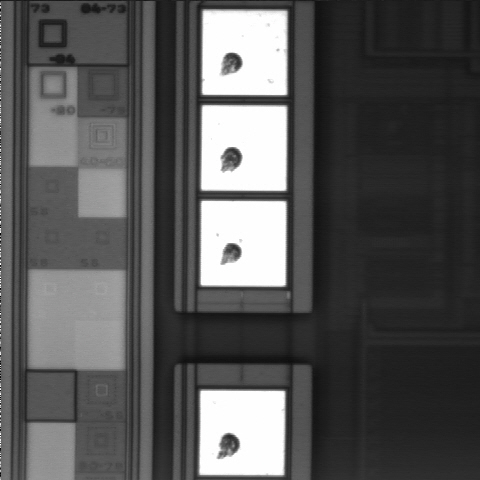pad: (201, 105, 287, 191), (201, 201, 286, 286), (202, 11, 287, 95), (200, 391, 285, 475)
